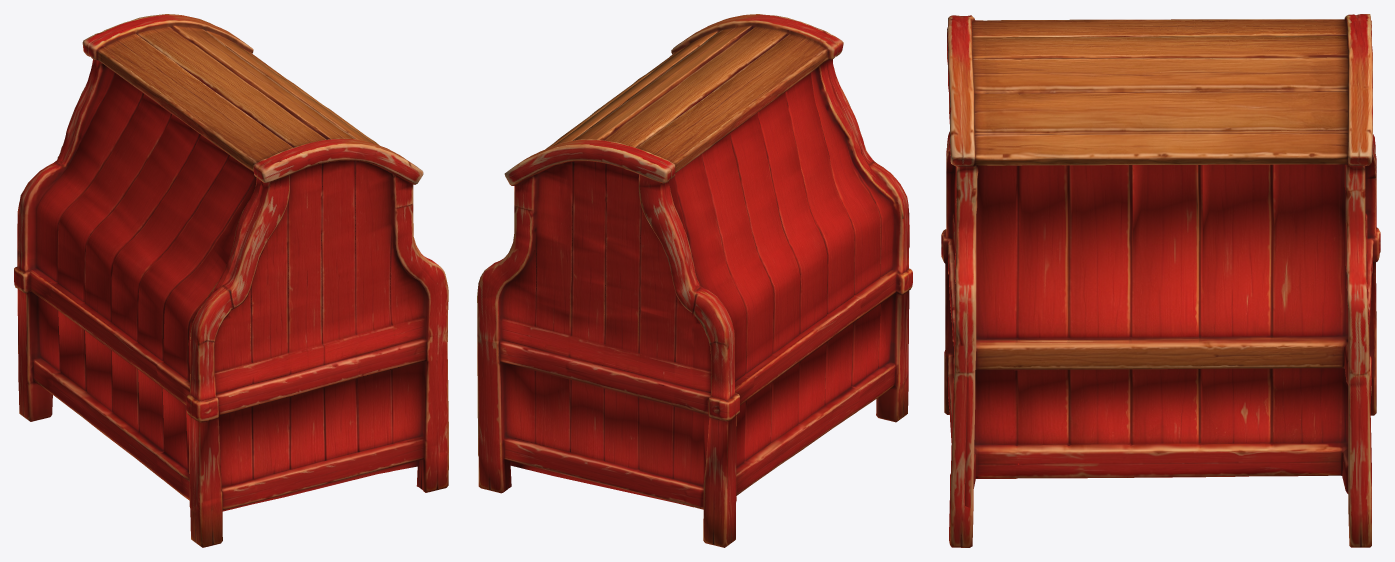
File: tripo_convert_f83a96ce-1e0e-49f9-a2ae-12ff8413f107.glb
3 views of the same model, side by side, from view 1: azimuth 30°, elevation 25°; view 2: azimuth 150°, elevation 25°; view 3: azimuth 270°, elevation 25° (orthographic). The views are drawn at different scales.
Parts seen in each view (by area): view 1: tripo_node_f83a96ce-1e0e-49f9-a2ae-12ff8413f107; view 2: tripo_node_f83a96ce-1e0e-49f9-a2ae-12ff8413f107; view 3: tripo_node_f83a96ce-1e0e-49f9-a2ae-12ff8413f107.
Part boxes in pixels (bbox=[...]): tripo_node_f83a96ce-1e0e-49f9-a2ae-12ff8413f107: bbox=[14, 14, 448, 547]; tripo_node_f83a96ce-1e0e-49f9-a2ae-12ff8413f107: bbox=[477, 14, 912, 547]; tripo_node_f83a96ce-1e0e-49f9-a2ae-12ff8413f107: bbox=[941, 14, 1380, 547].
Size of the model in its own units: 0.7144 by 0.9788 by 0.8907.
1 material, 1 textured.
